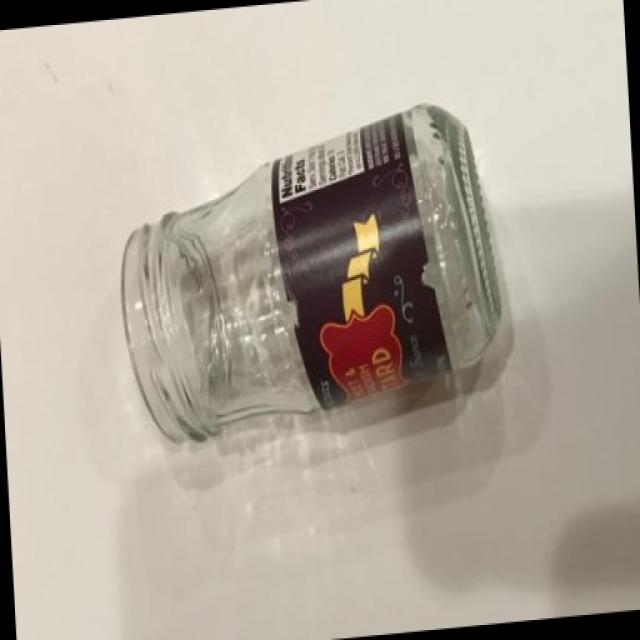vidrio: (113, 93, 531, 472)
